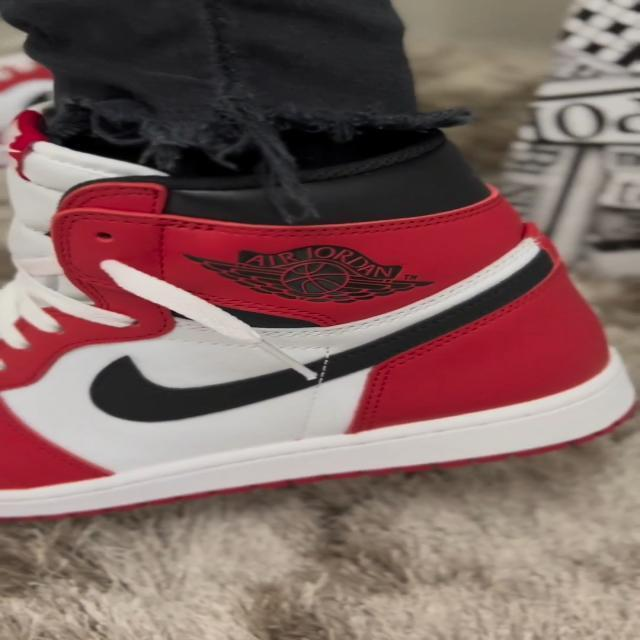nike original jordan 1: (6, 134, 637, 516)
